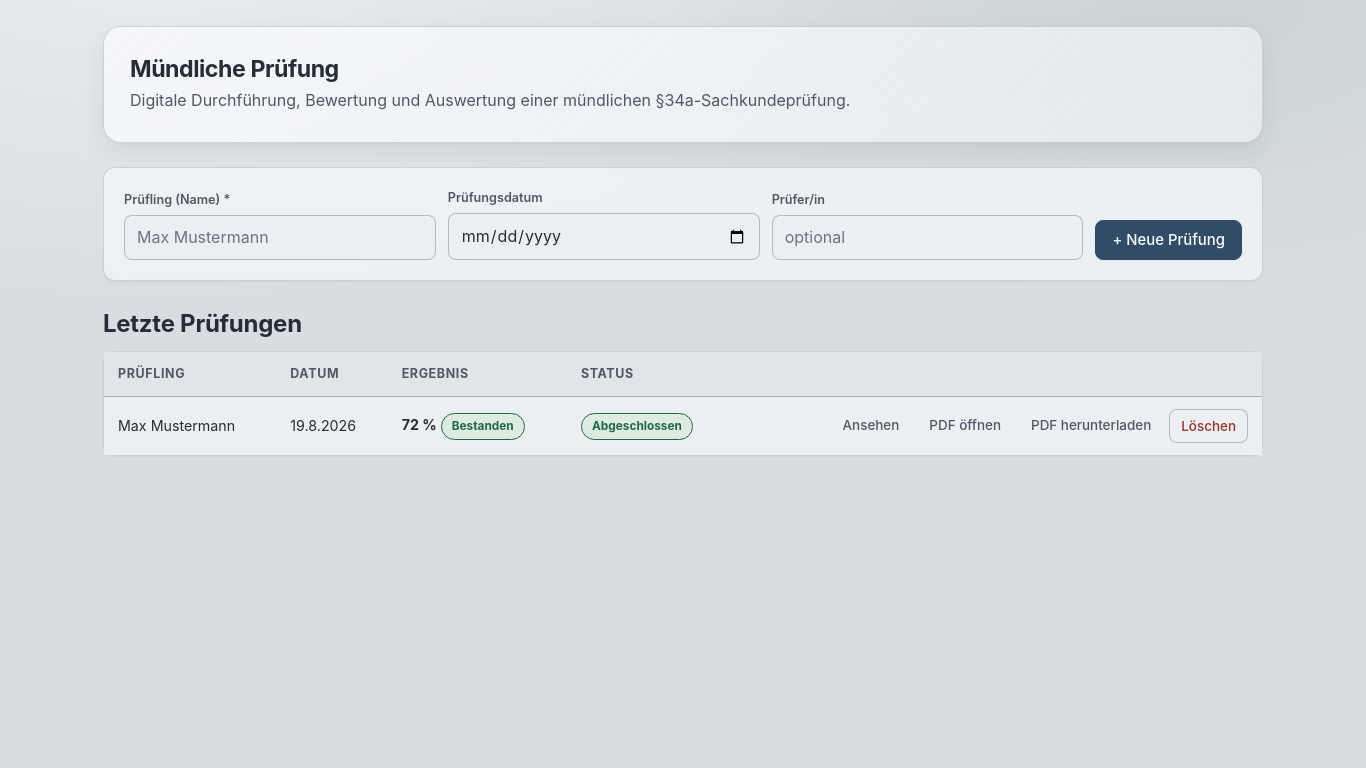
Test case: delete confirmation › cancelling closes the dialog and sends no request
Click the button "Löschen". click: (1209, 426)
box: x1=1169 y1=409 x2=1248 y2=443
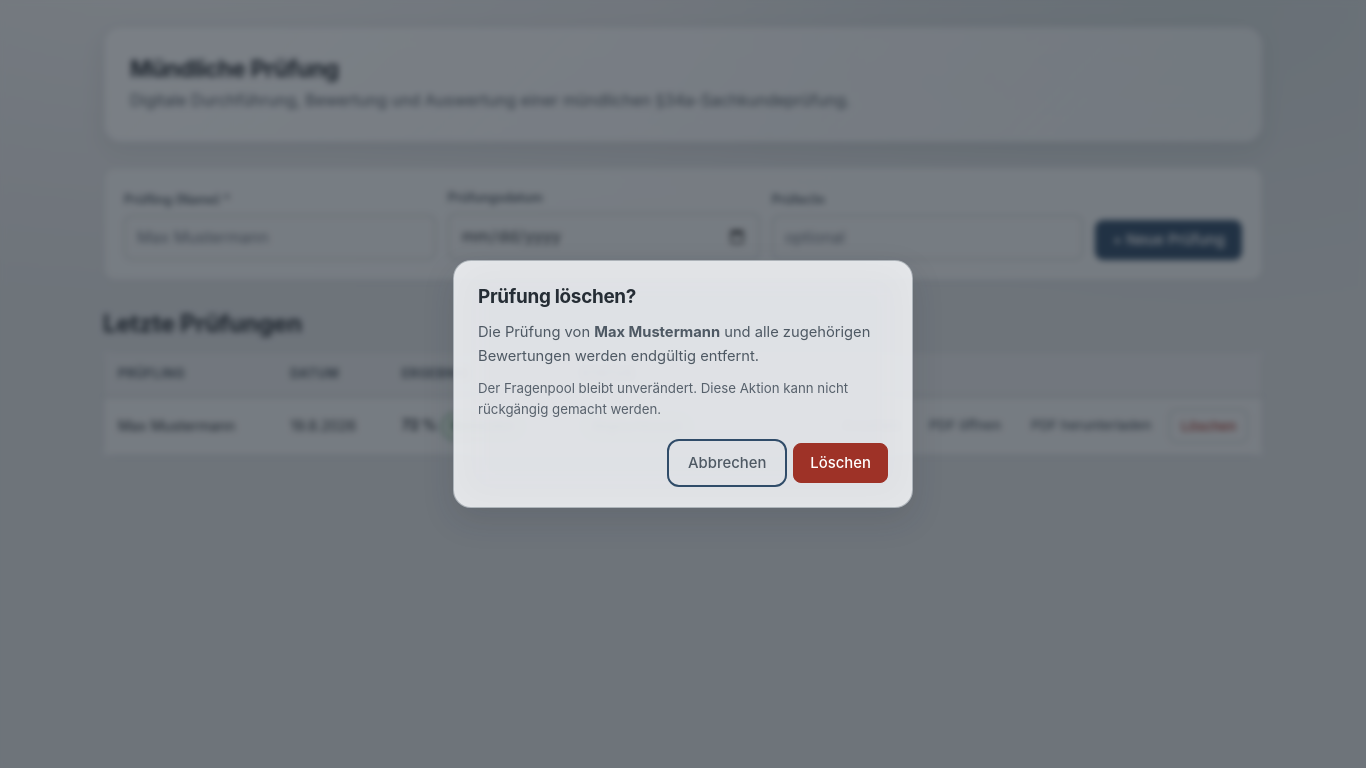
Result: the dialog is shown at x1=453 y1=260 x2=913 y2=508
Click the button "Abbrechen". click: (727, 463)
box: x1=671 y1=443 x2=783 y2=483
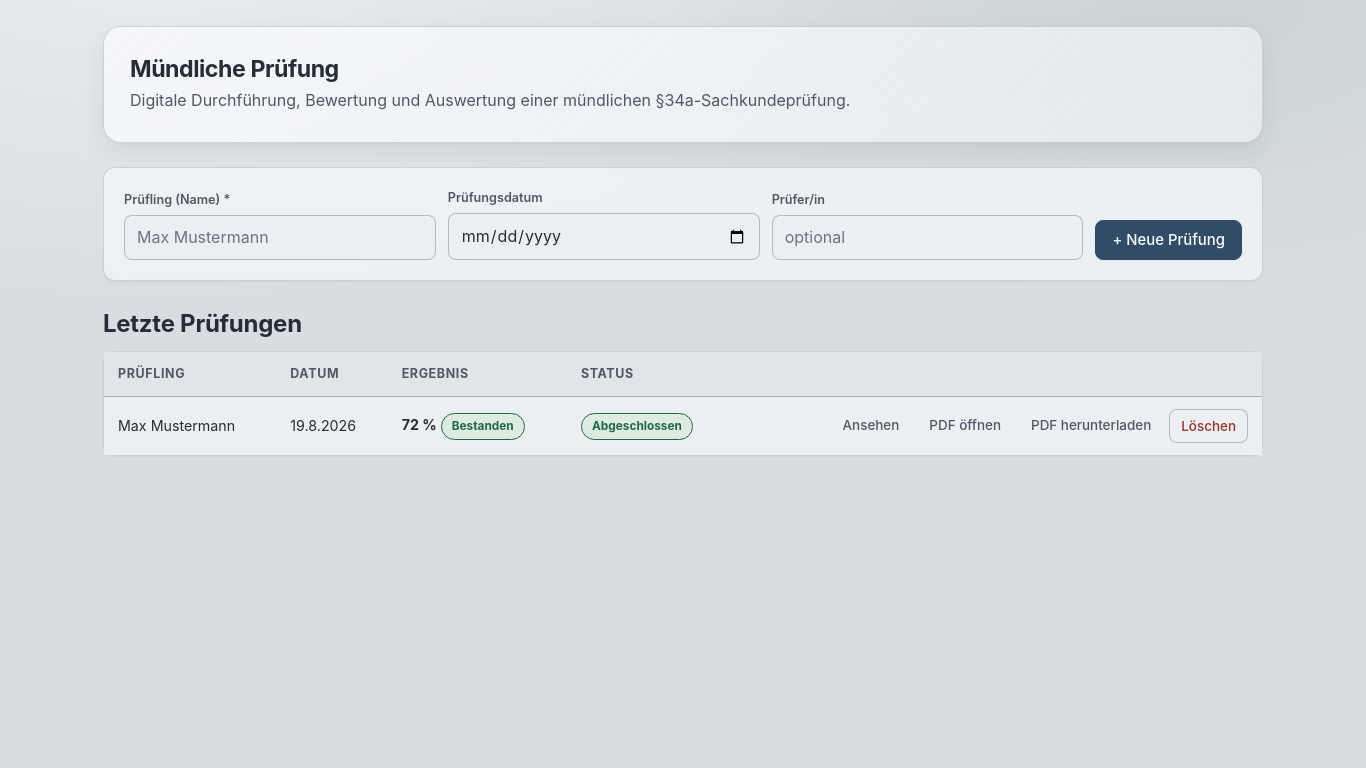
Expected: the text "Max Mustermann" is shown, x1=104 y1=397 x2=276 y2=455
Result: the dialog is gone
